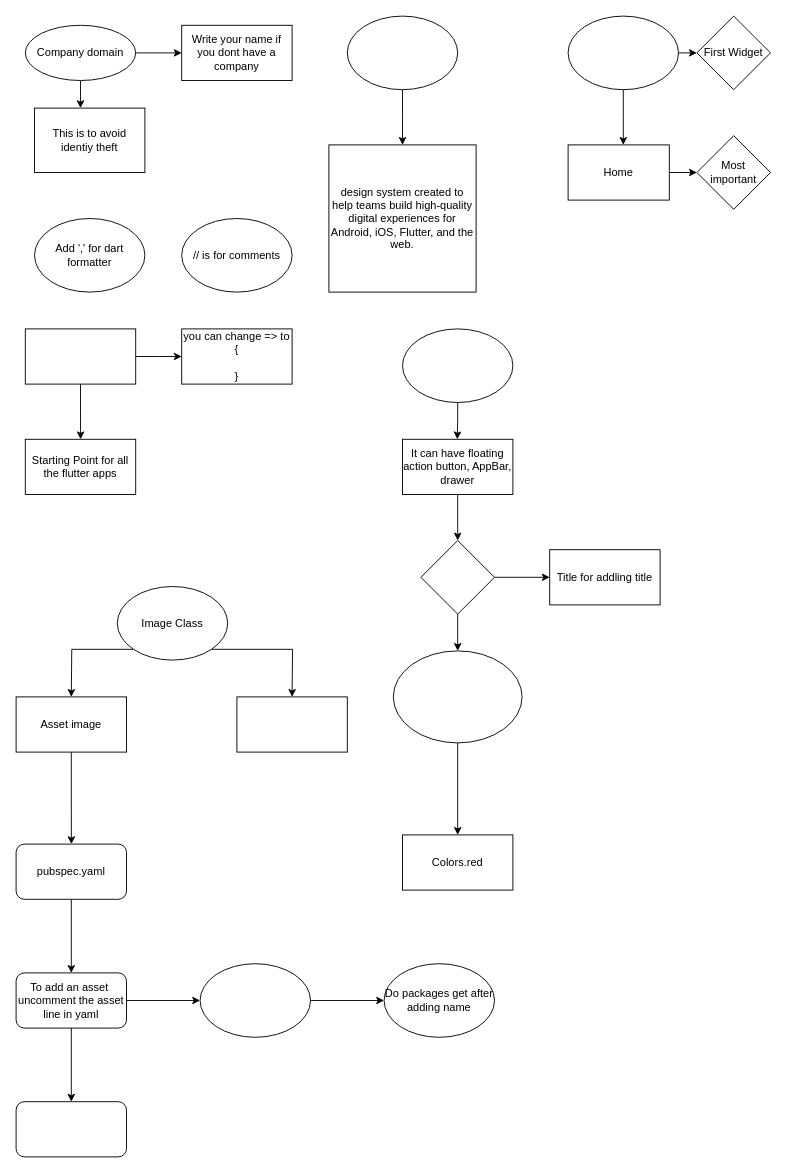
Image size: 787x1173. Some labels were removed from this diagram. The centre of each missing label's shape, as x and y in pixels:
"- images/diamond.jpg" goes at (x=254, y=1000).
"AppBar" goes at (x=457, y=577).
"Material Design" goes at (x=402, y=52).
"MaterialApp" goes at (x=622, y=52).
"Network image" goes at (x=291, y=724).
"Scaffold Class" goes at (x=457, y=365).
"To add an image add the image name directly" goes at (x=70, y=1129).
"To change backgroud color BackgroundColor" goes at (x=457, y=696).
"void main()" goes at (x=80, y=356).
